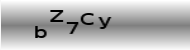7: (65, 19, 79, 34)
C: (78, 11, 96, 26)
Z: (48, 8, 65, 23)
b: (34, 25, 48, 41)
y: (97, 14, 112, 30)
